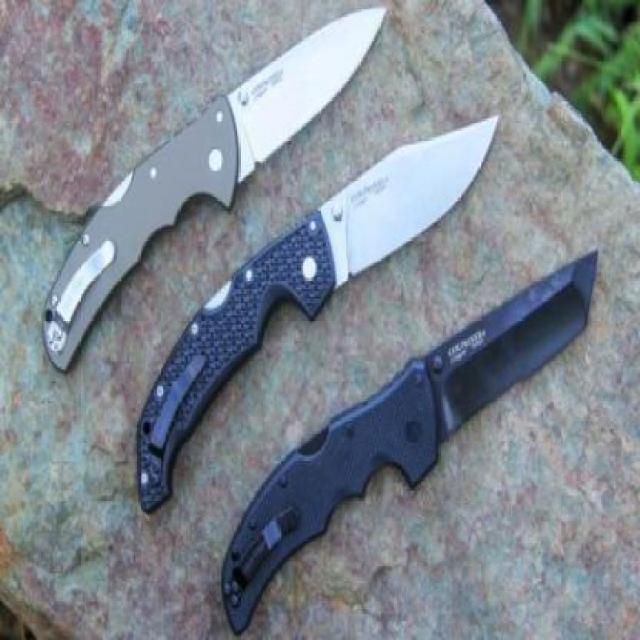-: (420, 237, 603, 446), (313, 108, 502, 289)
